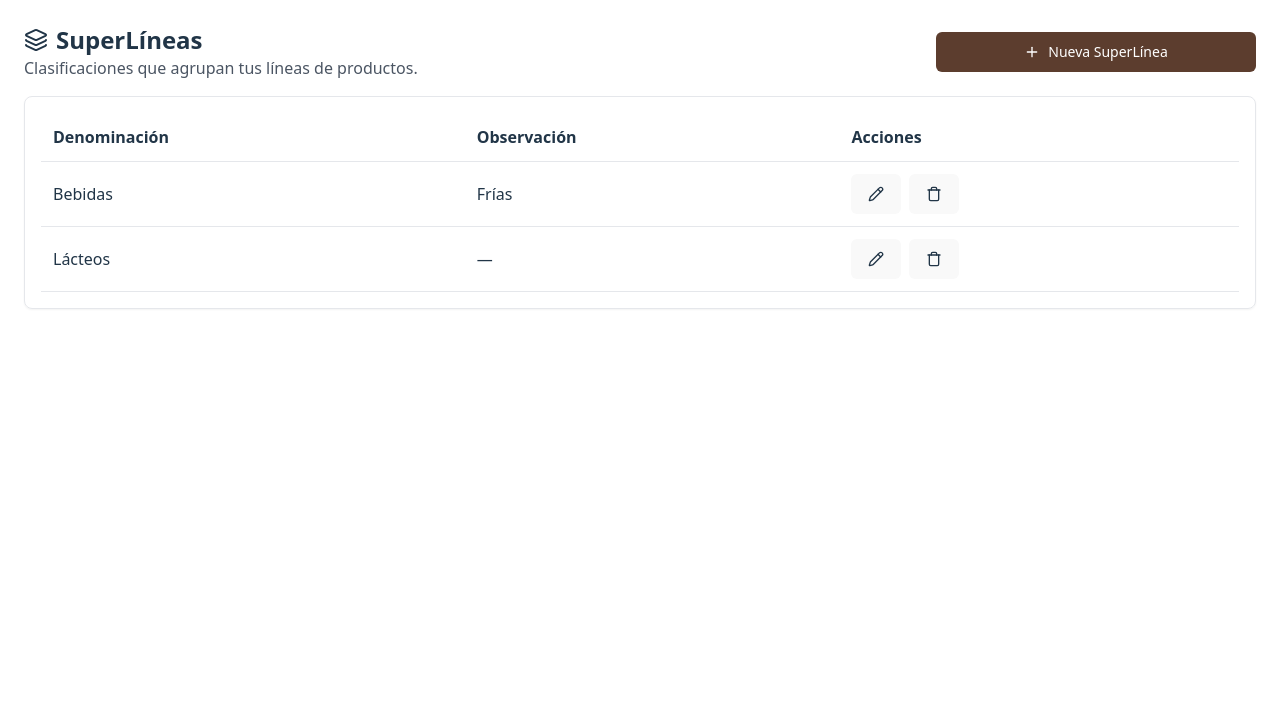
ConsultarSuperlinea › edición › actualiza la superlínea editada e informa el éxito
The width and height of the screenshot is (1280, 720).
Click the button named "Editar Bebidas" at (876, 194), box [852, 174, 902, 214]
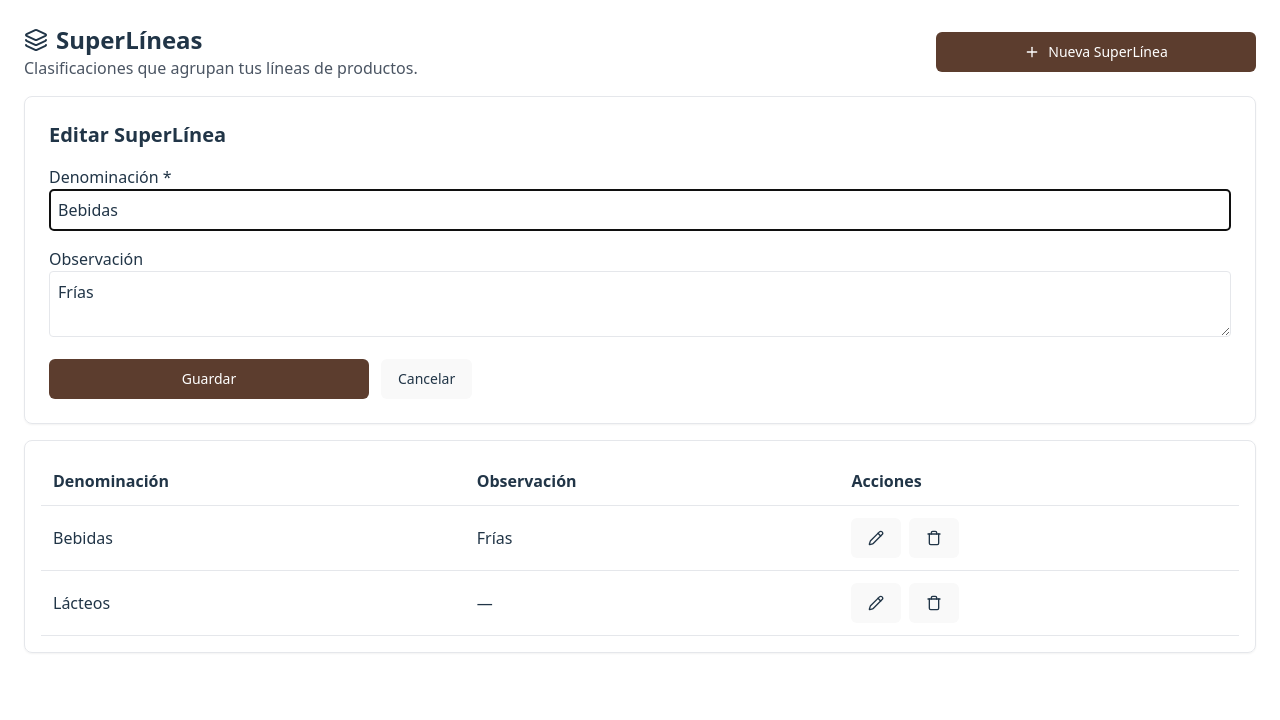
Replace the text in the field labelled "Denominación *" with "Bebidas sin alcohol" at (640, 210), box [49, 189, 1231, 231]
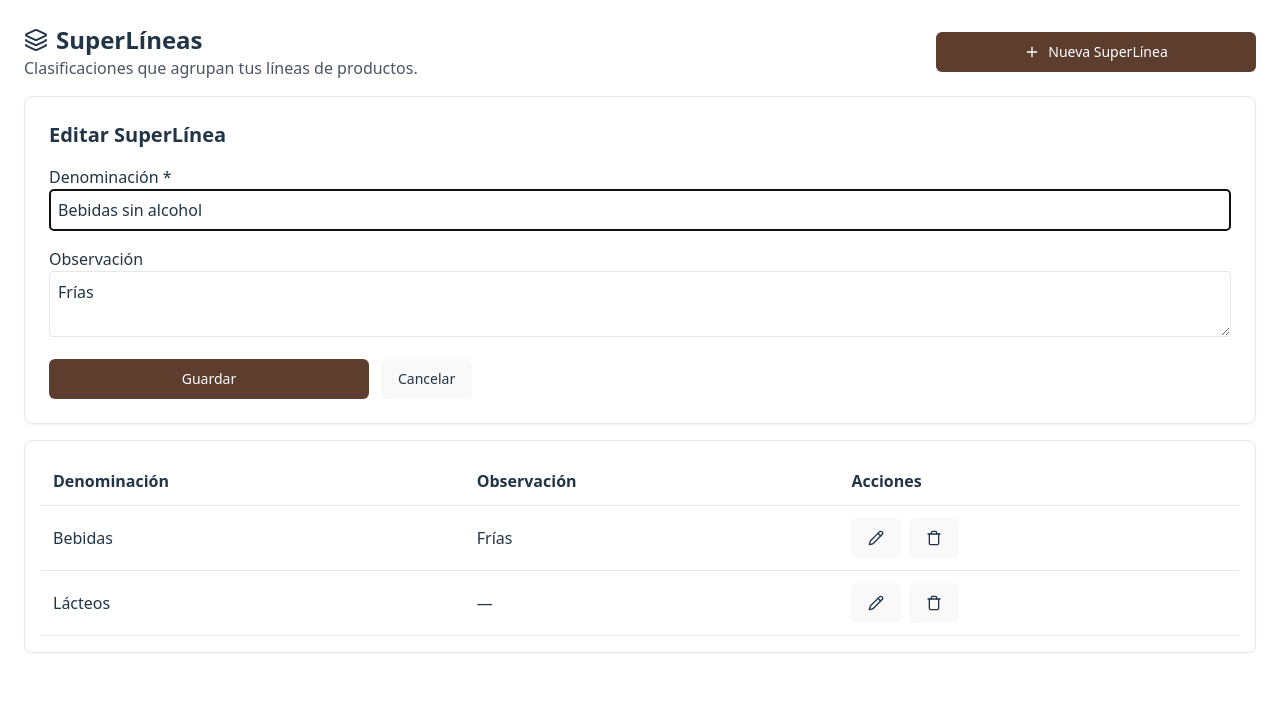
Replace the text in the text box labelled "Observación" with " Nueva obs " at (640, 304), box [49, 271, 1231, 337]
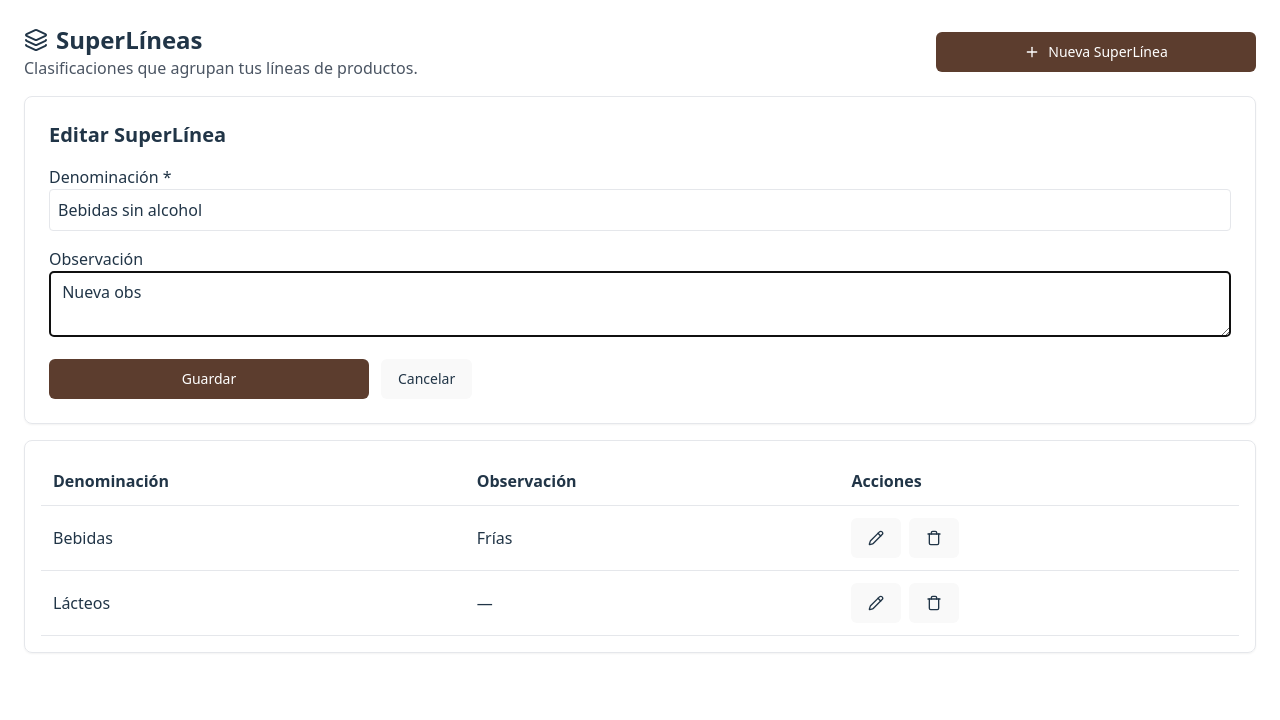
Click the button "Guardar" at (209, 379), box [49, 359, 369, 399]
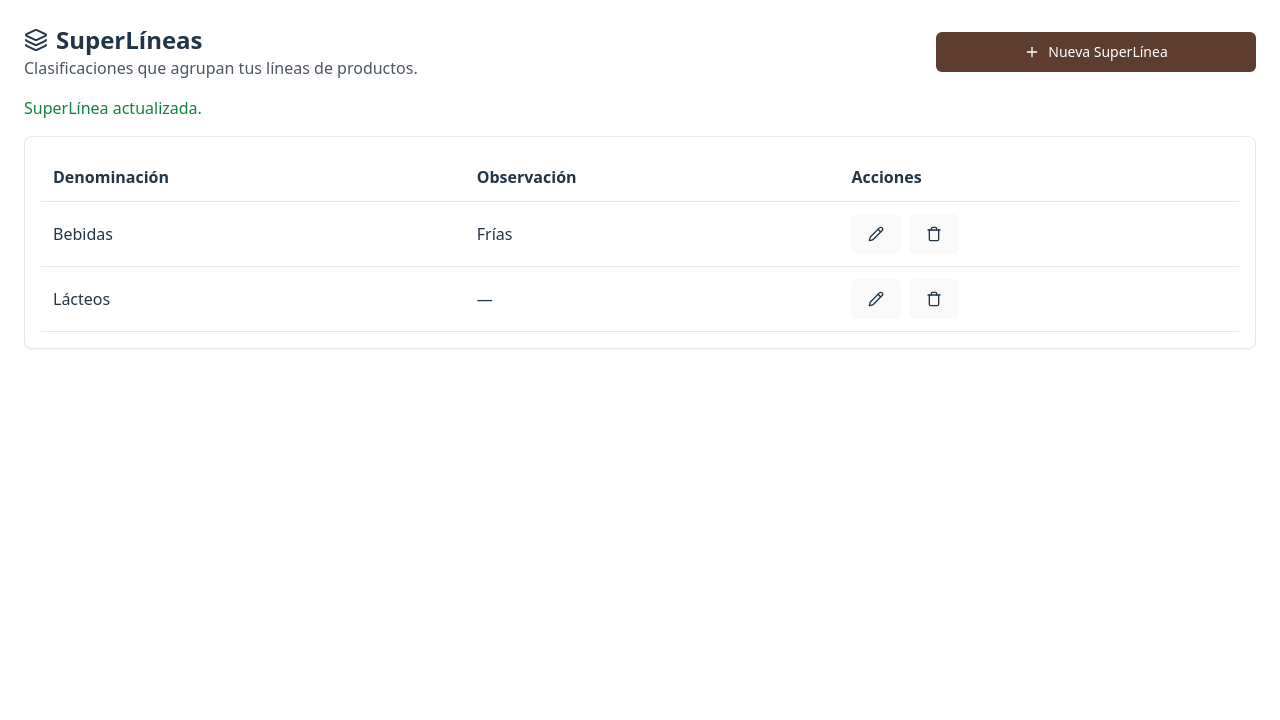
Expected: the text "SuperLínea actualizada." is shown, [24, 97, 202, 119]
